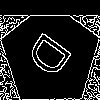D: (25, 30, 81, 86)
